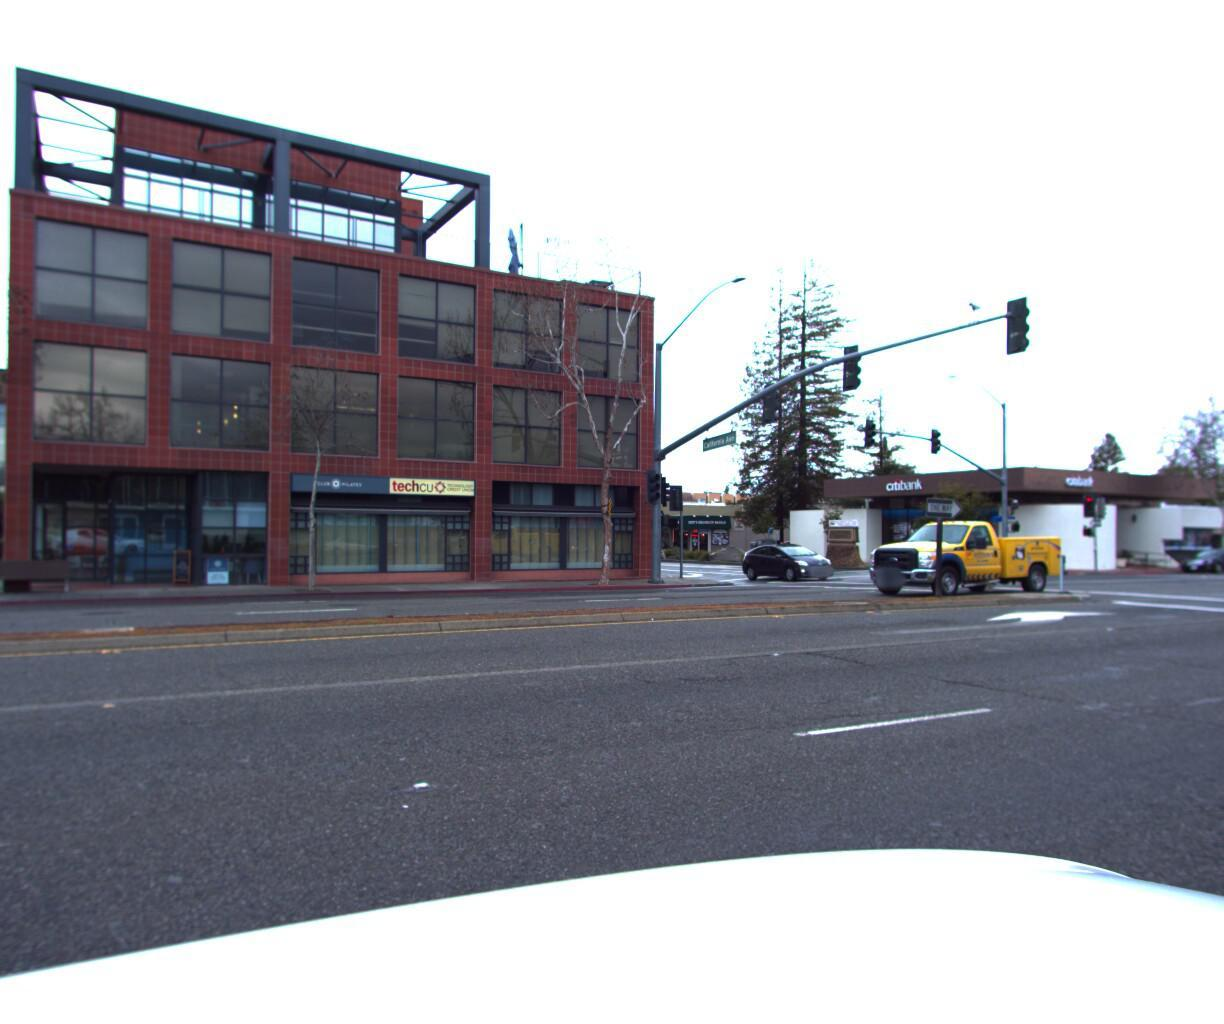car: (849, 513, 1076, 607), (735, 550, 837, 591), (1170, 557, 1224, 585)
